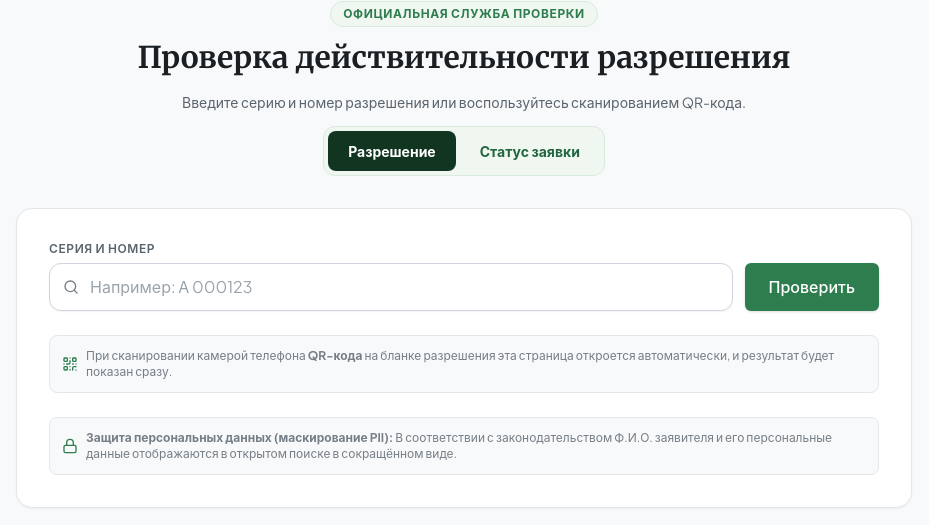
Test: translates the application tab, which used to be Uzbek in every language
Click the tab "Статус заявки" at (530, 151), box [460,131,600,171]
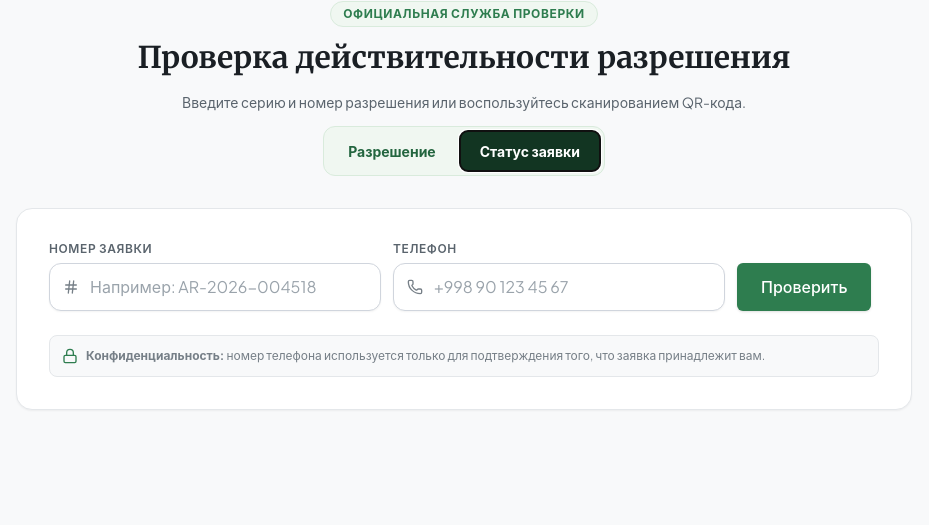
Now the field labelled "Номер заявки" is shown, box [49,263,381,311]
Now the text "Конфиденциальность:" is shown, box [86,348,224,363]
